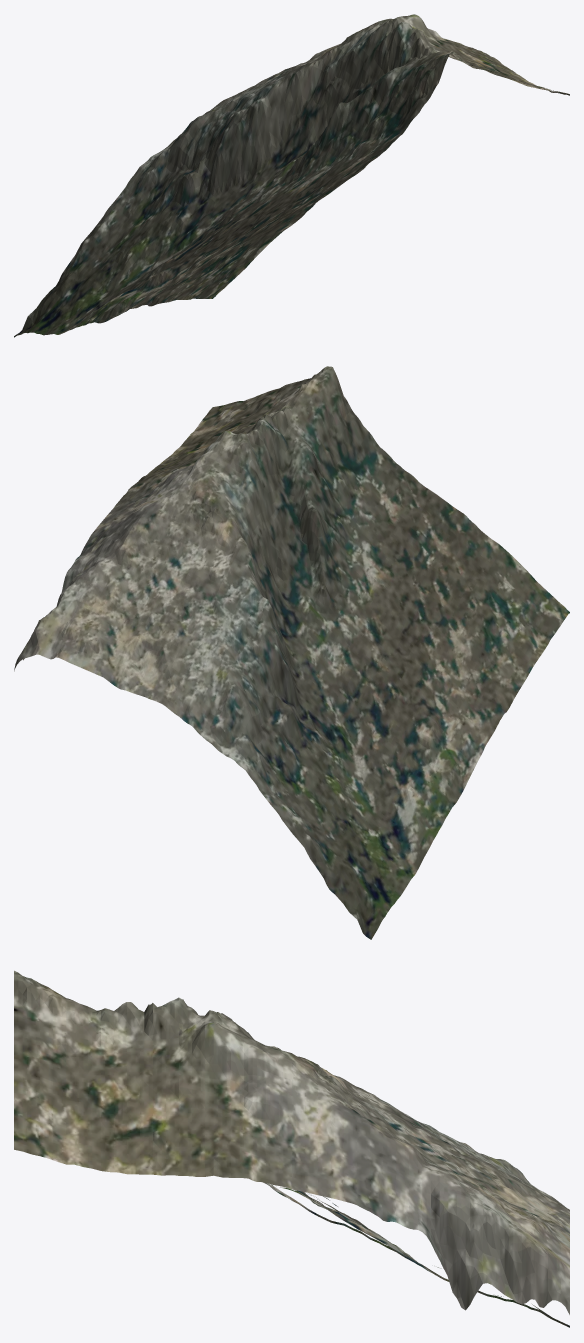
3 renders of one model, top to bottom at view 1: azimuth 30°, elevation 25°; view 2: azimuth 150°, elevation 25°; view 3: azimuth 270°, elevation 25°, orthographic. The views are drawn at different scales.
Size of the model in its own units: 250 by 248 by 241.
Materials: 1 (1 with a texture image).
